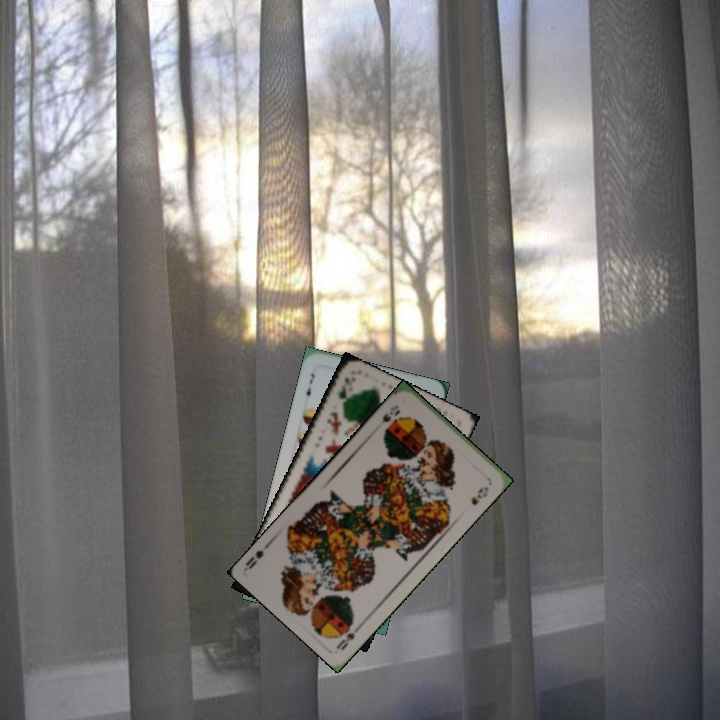E7: (300, 369, 317, 403)
GK: (334, 372, 358, 410)
SO: (332, 619, 366, 653), (378, 401, 403, 434)
